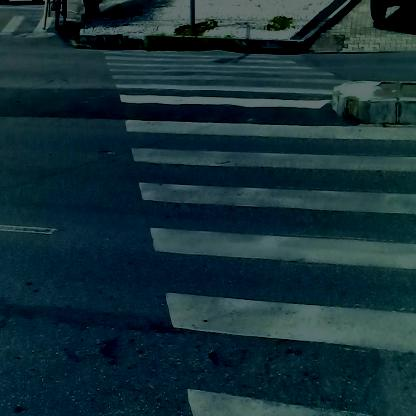crosswalk: (94, 50, 416, 416)
sidewalk: (76, 5, 416, 61)
